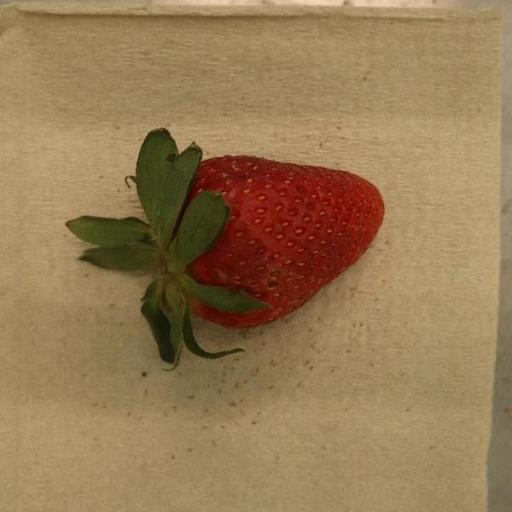Strawberry: (63, 129, 385, 368)
